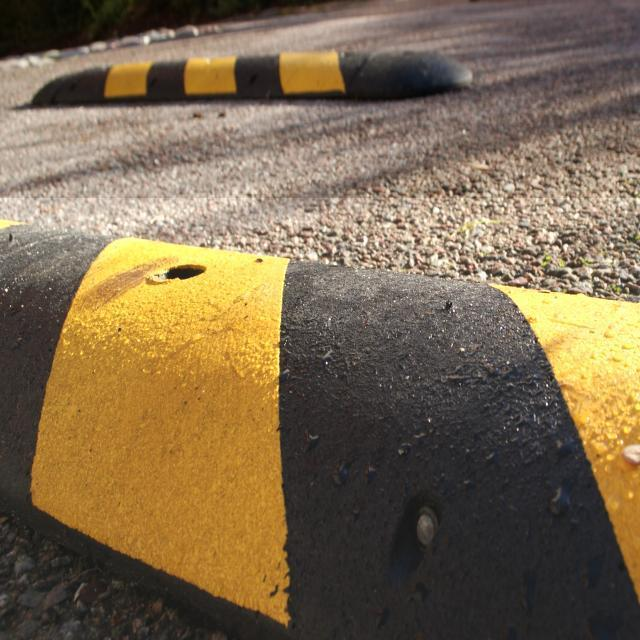Marked Bump: (23, 207, 632, 615), (63, 48, 477, 114)
